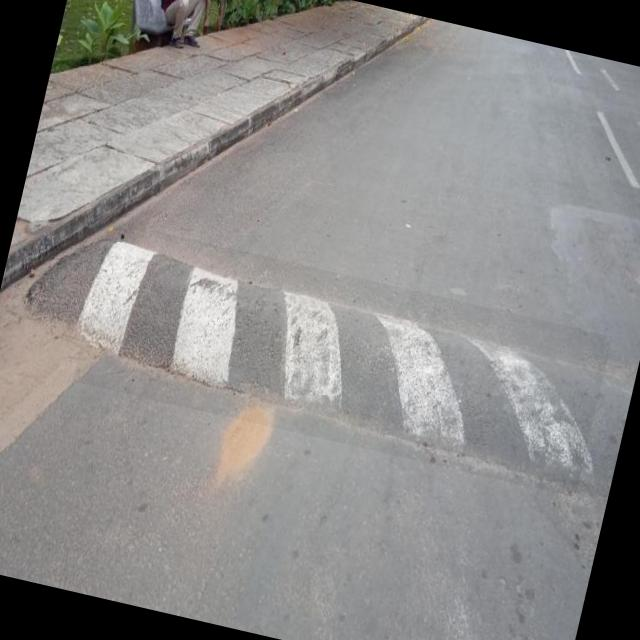bump: (72, 220, 612, 497)
